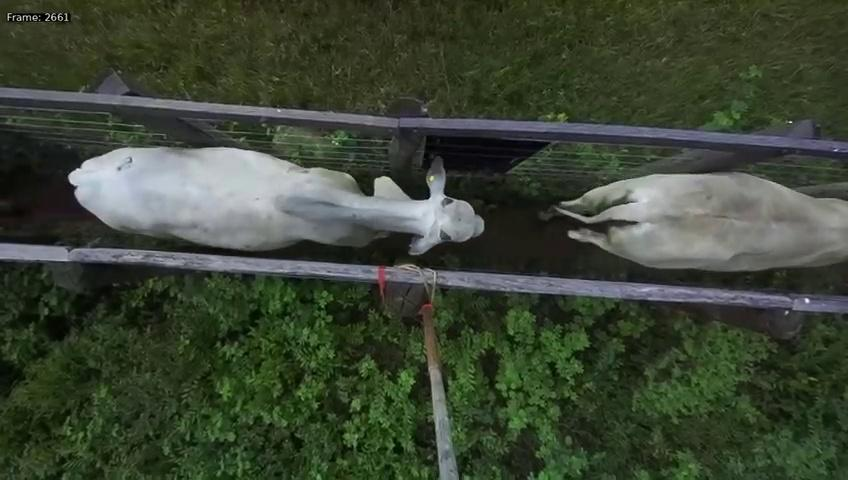cattle: (65, 131, 486, 258)
